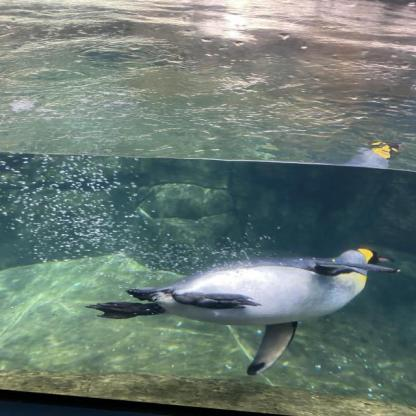penguin: (86, 248, 402, 375)
